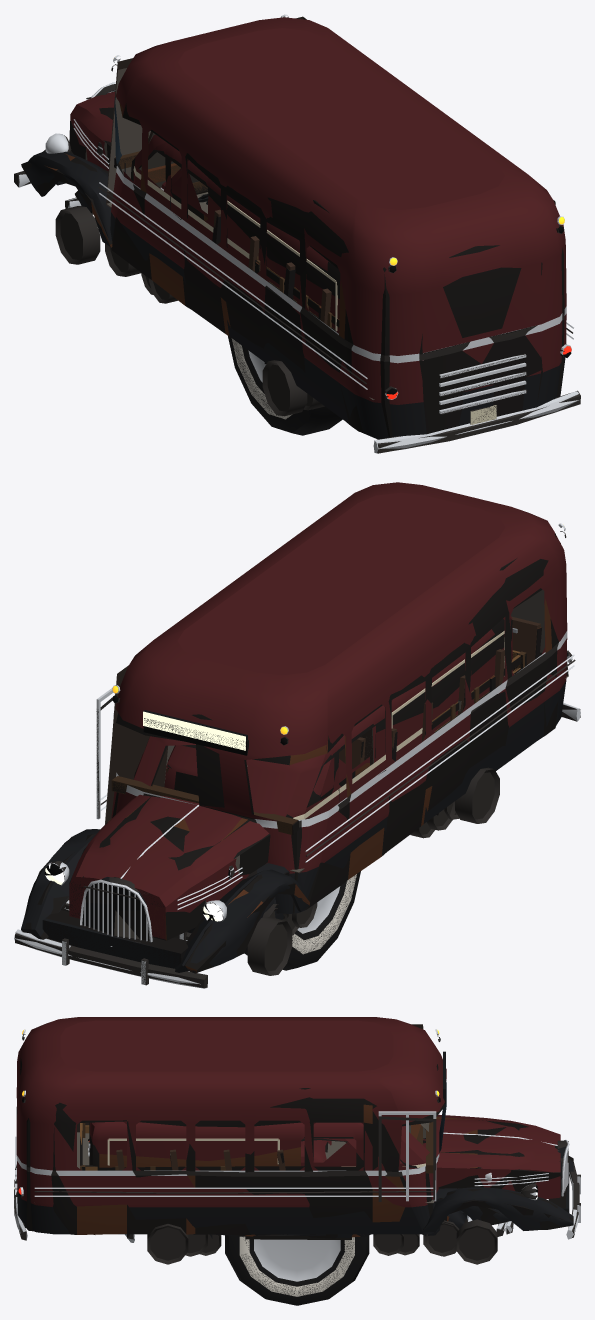
Rendered from vehicles.350d74fc.glb.
3 views of the same model, one above another, from view 1: azimuth 30°, elevation 25°; view 2: azimuth 150°, elevation 25°; view 3: azimuth 270°, elevation 25° (orthographic). The views are drawn at different scales.
Visible parts, largest first — view 1: bus_lod0, bus_wreck, van_lod0, van_wreck, wheel_ww_lod0, truck_wreck, truck_lod0; view 2: bus_lod0, bus_wreck, van_lod0, van_wreck, wheel_ww_lod0, truck_lod0, truck_wreck; view 3: bus_lod0, bus_wreck, van_lod0, wheel_ww_lod0, van_wreck, truck_lod0, speedster_wreck, truck_wreck, sedan_wreck, wheel_bk_lod0, sedan_lod0.
Part boxes in pixels (x1,y1,x2,y2): bus_lod0: [19, 14, 578, 453]; bus_wreck: [14, 64, 580, 453]; van_lod0: [124, 131, 339, 331]; van_wreck: [80, 133, 340, 298]; wheel_ww_lod0: [228, 336, 342, 435]; truck_wreck: [65, 142, 339, 410]; truck_lod0: [67, 146, 338, 329]; bus_lod0: [14, 482, 580, 988]; bus_wreck: [15, 531, 580, 988]; van_lod0: [133, 615, 517, 819]; van_wreck: [134, 618, 512, 920]; wheel_ww_lod0: [244, 871, 360, 970]; truck_lod0: [64, 650, 526, 940]; truck_wreck: [65, 652, 526, 940]; bus_lod0: [14, 1017, 580, 1239]; bus_wreck: [14, 1034, 580, 1264]; van_lod0: [88, 1121, 507, 1231]; wheel_ww_lod0: [225, 1235, 369, 1305]; van_wreck: [88, 1122, 506, 1256]; truck_lod0: [80, 1123, 514, 1238]; speedster_wreck: [193, 1234, 425, 1255]; truck_wreck: [80, 1125, 513, 1256]; sedan_wreck: [128, 1142, 467, 1255]; wheel_bk_lod0: [232, 1236, 362, 1305]; sedan_lod0: [133, 1140, 472, 1237].
Size of what is drawn, in the model's own units: 2.44 by 3.8 by 7.67.
1 material, 1 textured.
